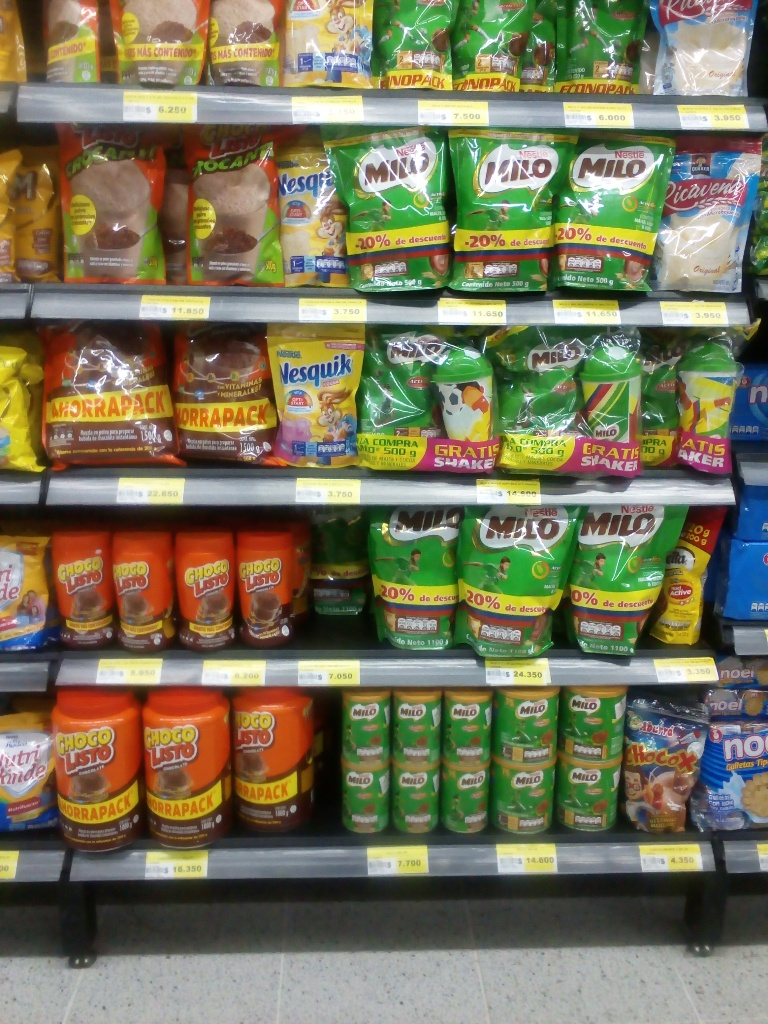COL0170102DYP50000: (175, 121, 289, 285)
COL0170103DYP1,500: (169, 317, 279, 464)
COL0170103TRR00100: (229, 685, 316, 835)
COL0170103TRR30000: (237, 529, 297, 649)
COL0170203DYP25000: (557, 0, 649, 97)
COL0170203DYP50000: (551, 130, 674, 296)
COL0170203LAT20000: (440, 760, 493, 835)
COL0170203LAT40000: (559, 754, 625, 835)
COL0170305DYP20000: (261, 321, 361, 470)
COL0170306DYP20000: (281, 0, 375, 87)
